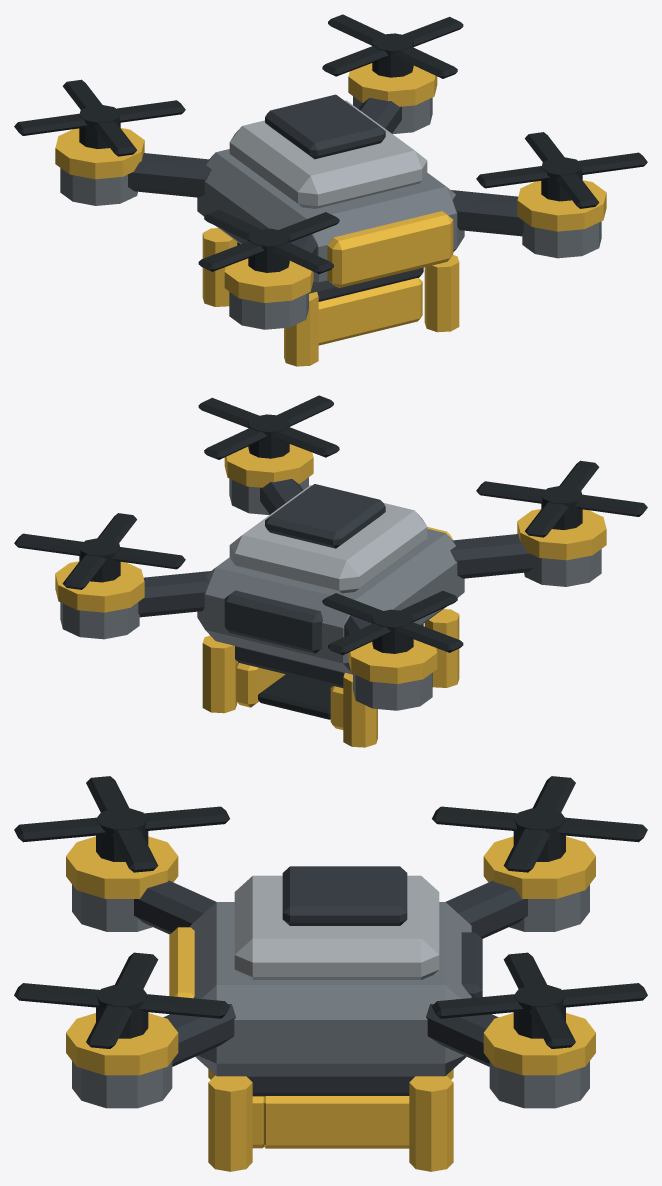
File: NormalDrone.glb
3 views of the same model, one above another, from view 1: azimuth 30°, elevation 25°; view 2: azimuth 150°, elevation 25°; view 3: azimuth 270°, elevation 25° (orthographic). The views are drawn at different scales.
Visible parts, largest first — view 1: MainBody, UpperShell, FrontYellowBand, TopBatteryPanel, AttachmentFrontStop, FrontRight_MotorBand, RearLeft_Arm, RearLeft_MotorBand, FrontLeft_MotorBand, RearRight_MotorBand, FrontRight_Arm, FrontRight_LandingFoot (+20 smaller); view 2: MainBody, UpperShell, TopBatteryPanel, RearVentBlock, FrontLeft_Arm, RearRight_MotorBand, FrontLeft_MotorBand, RearLeft_MotorBand, FrontRight_MotorBand, RearRight_Arm, RearRight_LandingFoot, AttachmentSlotFloor (+22 smaller); view 3: MainBody, UpperShell, AttachmentRailRight, TopBatteryPanel, FrontRight_MotorBand, RearRight_MotorBand, FrontLeft_MotorBand, RearLeft_MotorBand, FrontRight_LandingFoot, RearRight_LandingFoot, FrontRight_Motor, RearRight_Motor (+22 smaller).
Boxes of the visible parts, bbox=[...] form: MainBody: bbox=[197, 149, 464, 293]; UpperShell: bbox=[229, 100, 427, 208]; FrontYellowBand: bbox=[327, 211, 453, 288]; TopBatteryPanel: bbox=[265, 94, 385, 159]; AttachmentFrontStop: bbox=[318, 278, 422, 345]; FrontRight_MotorBand: bbox=[517, 180, 606, 231]; RearLeft_Arm: bbox=[128, 153, 211, 197]; RearLeft_MotorBand: bbox=[55, 128, 144, 179]; FrontLeft_MotorBand: bbox=[224, 258, 313, 302]; RearRight_MotorBand: bbox=[348, 63, 437, 106]; FrontRight_Arm: bbox=[451, 190, 523, 236]; FrontRight_LandingFoot: bbox=[424, 255, 459, 332]; MainBody: bbox=[197, 528, 464, 674]; UpperShell: bbox=[229, 485, 427, 593]; TopBatteryPanel: bbox=[265, 484, 385, 548]; RearVentBlock: bbox=[224, 590, 322, 653]; FrontLeft_Arm: bbox=[450, 534, 533, 578]; RearRight_MotorBand: bbox=[55, 561, 144, 612]; FrontLeft_MotorBand: bbox=[517, 509, 606, 560]; RearLeft_MotorBand: bbox=[348, 639, 437, 683]; FrontRight_MotorBand: bbox=[224, 444, 313, 487]; RearRight_Arm: bbox=[138, 571, 210, 617]; RearRight_LandingFoot: bbox=[202, 635, 237, 713]; AttachmentSlotFloor: bbox=[258, 674, 332, 719]; MainBody: bbox=[190, 902, 471, 1076]; UpperShell: bbox=[234, 875, 439, 979]; AttachmentRailRight: bbox=[263, 1096, 409, 1148]; TopBatteryPanel: bbox=[282, 866, 407, 925]; FrontRight_MotorBand: bbox=[66, 1013, 178, 1075]; RearRight_MotorBand: bbox=[483, 1013, 595, 1075]; FrontLeft_MotorBand: bbox=[66, 836, 178, 898]; RearLeft_MotorBand: bbox=[483, 836, 595, 898]; FrontRight_LandingFoot: bbox=[208, 1075, 252, 1171]; RearRight_LandingFoot: bbox=[409, 1075, 453, 1171]; FrontRight_Motor: bbox=[72, 1061, 172, 1108]; RearRight_Motor: bbox=[489, 1061, 589, 1108].
Size of the model in its own units: 1.58 by 0.6425 by 1.58.
